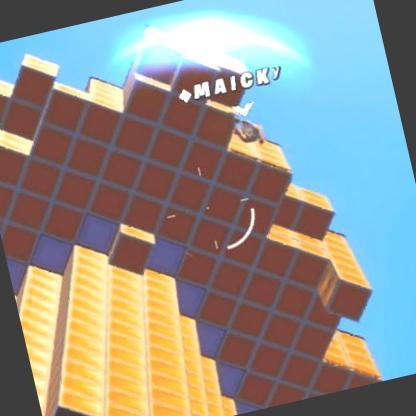person: (240, 115, 262, 150)
